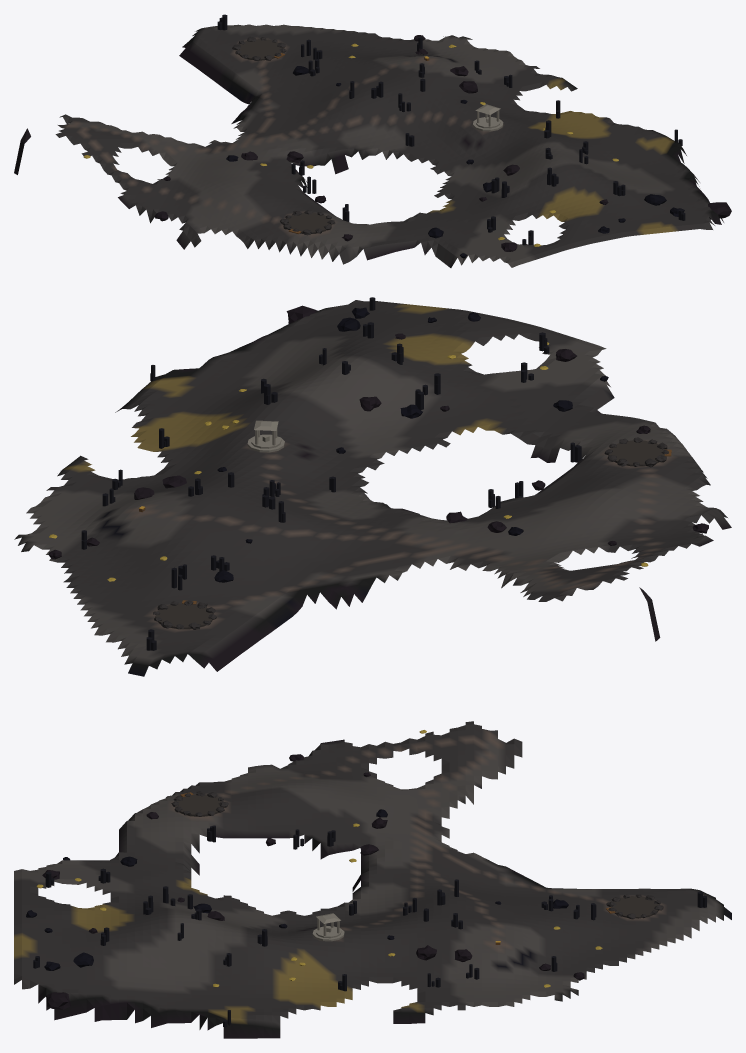
The model's file is ash_isl_hot_spring.glb.
The picture shows the model from 3 angles, top to bottom: view 1: azimuth 30°, elevation 25°; view 2: azimuth 150°, elevation 25°; view 3: azimuth 270°, elevation 25°; orthographic projection. The views are drawn at different scales.
Visible parts, largest first — view 1: geometry_0; view 2: geometry_0; view 3: geometry_0.
Part boxes in pixels (bbox=[...]): geometry_0: bbox=[14, 14, 731, 267]; geometry_0: bbox=[14, 297, 731, 676]; geometry_0: bbox=[14, 721, 731, 1038].
Bounding box in the file's own units: 162 × 18.11 × 178.
